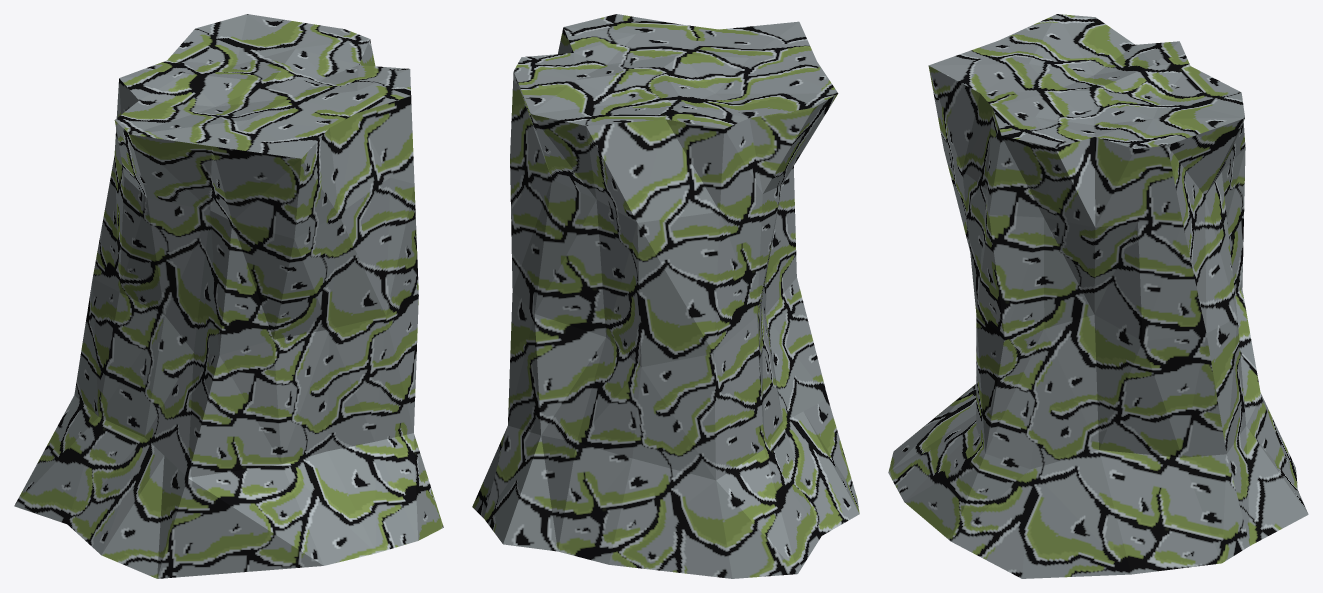
File: Cliff_02.obj
3 renders of one model, left to right at view 1: azimuth 30°, elevation 25°; view 2: azimuth 150°, elevation 25°; view 3: azimuth 270°, elevation 25°, orthographic. The views are drawn at different scales.
Visible parts, largest first — view 1: Cliff_02_Cube.001; view 2: Cliff_02_Cube.001; view 3: Cliff_02_Cube.001.
Part boxes in pixels (<box>): Cliff_02_Cube.001: <box>14,14,443,578</box>; Cliff_02_Cube.001: <box>472,14,859,578</box>; Cliff_02_Cube.001: <box>888,14,1308,578</box>.
Bounding box in the file's own units: 28 × 35.82 × 31.71.
